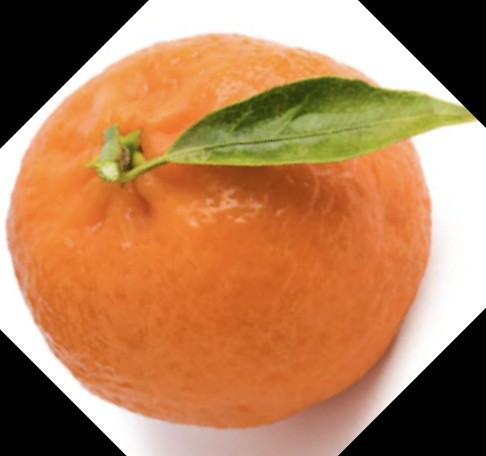fresh_orange: (11, 33, 434, 427)
